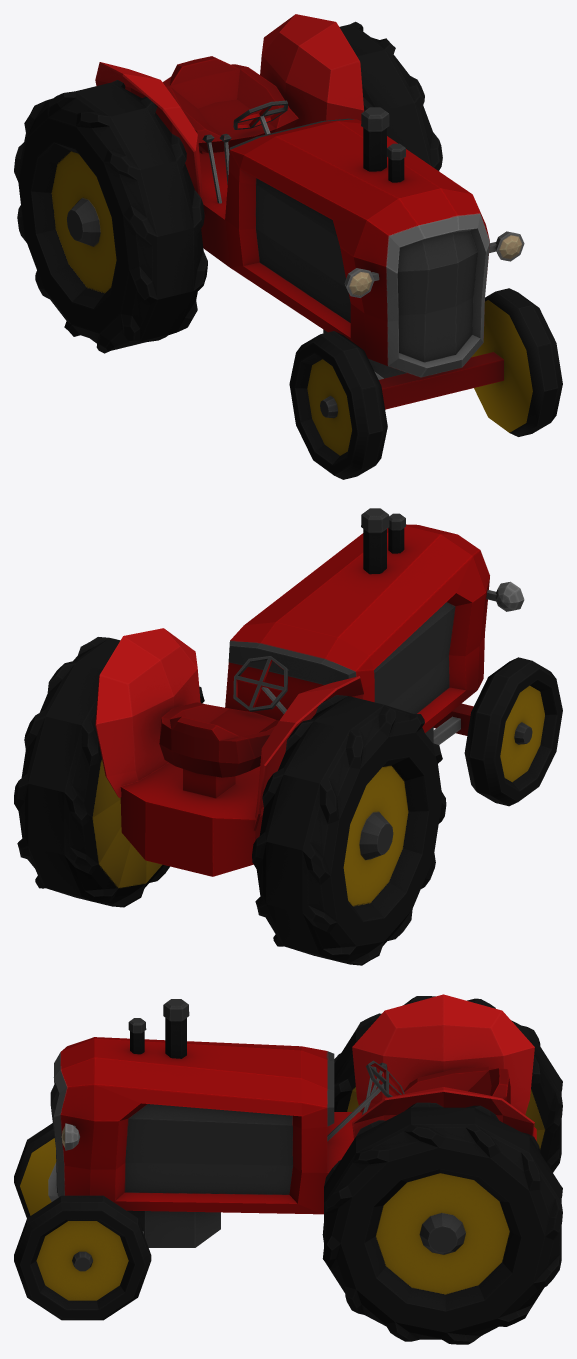
The model's file is Tractor.gltf.
The picture shows the model from 3 angles, top to bottom: view 1: azimuth 30°, elevation 25°; view 2: azimuth 150°, elevation 25°; view 3: azimuth 270°, elevation 25°; orthographic projection. The views are drawn at different scales.
Visible parts, largest first — view 1: node-0; view 2: node-0; view 3: node-0.
Boxes of the visible parts, <box> form: node-0: <box>14,14,562,479</box>; node-0: <box>14,508,562,965</box>; node-0: <box>14,994,562,1344</box>.
Bounding box in the file's own units: 9.35 × 8.62 × 15.49.
1 material, 1 textured.
